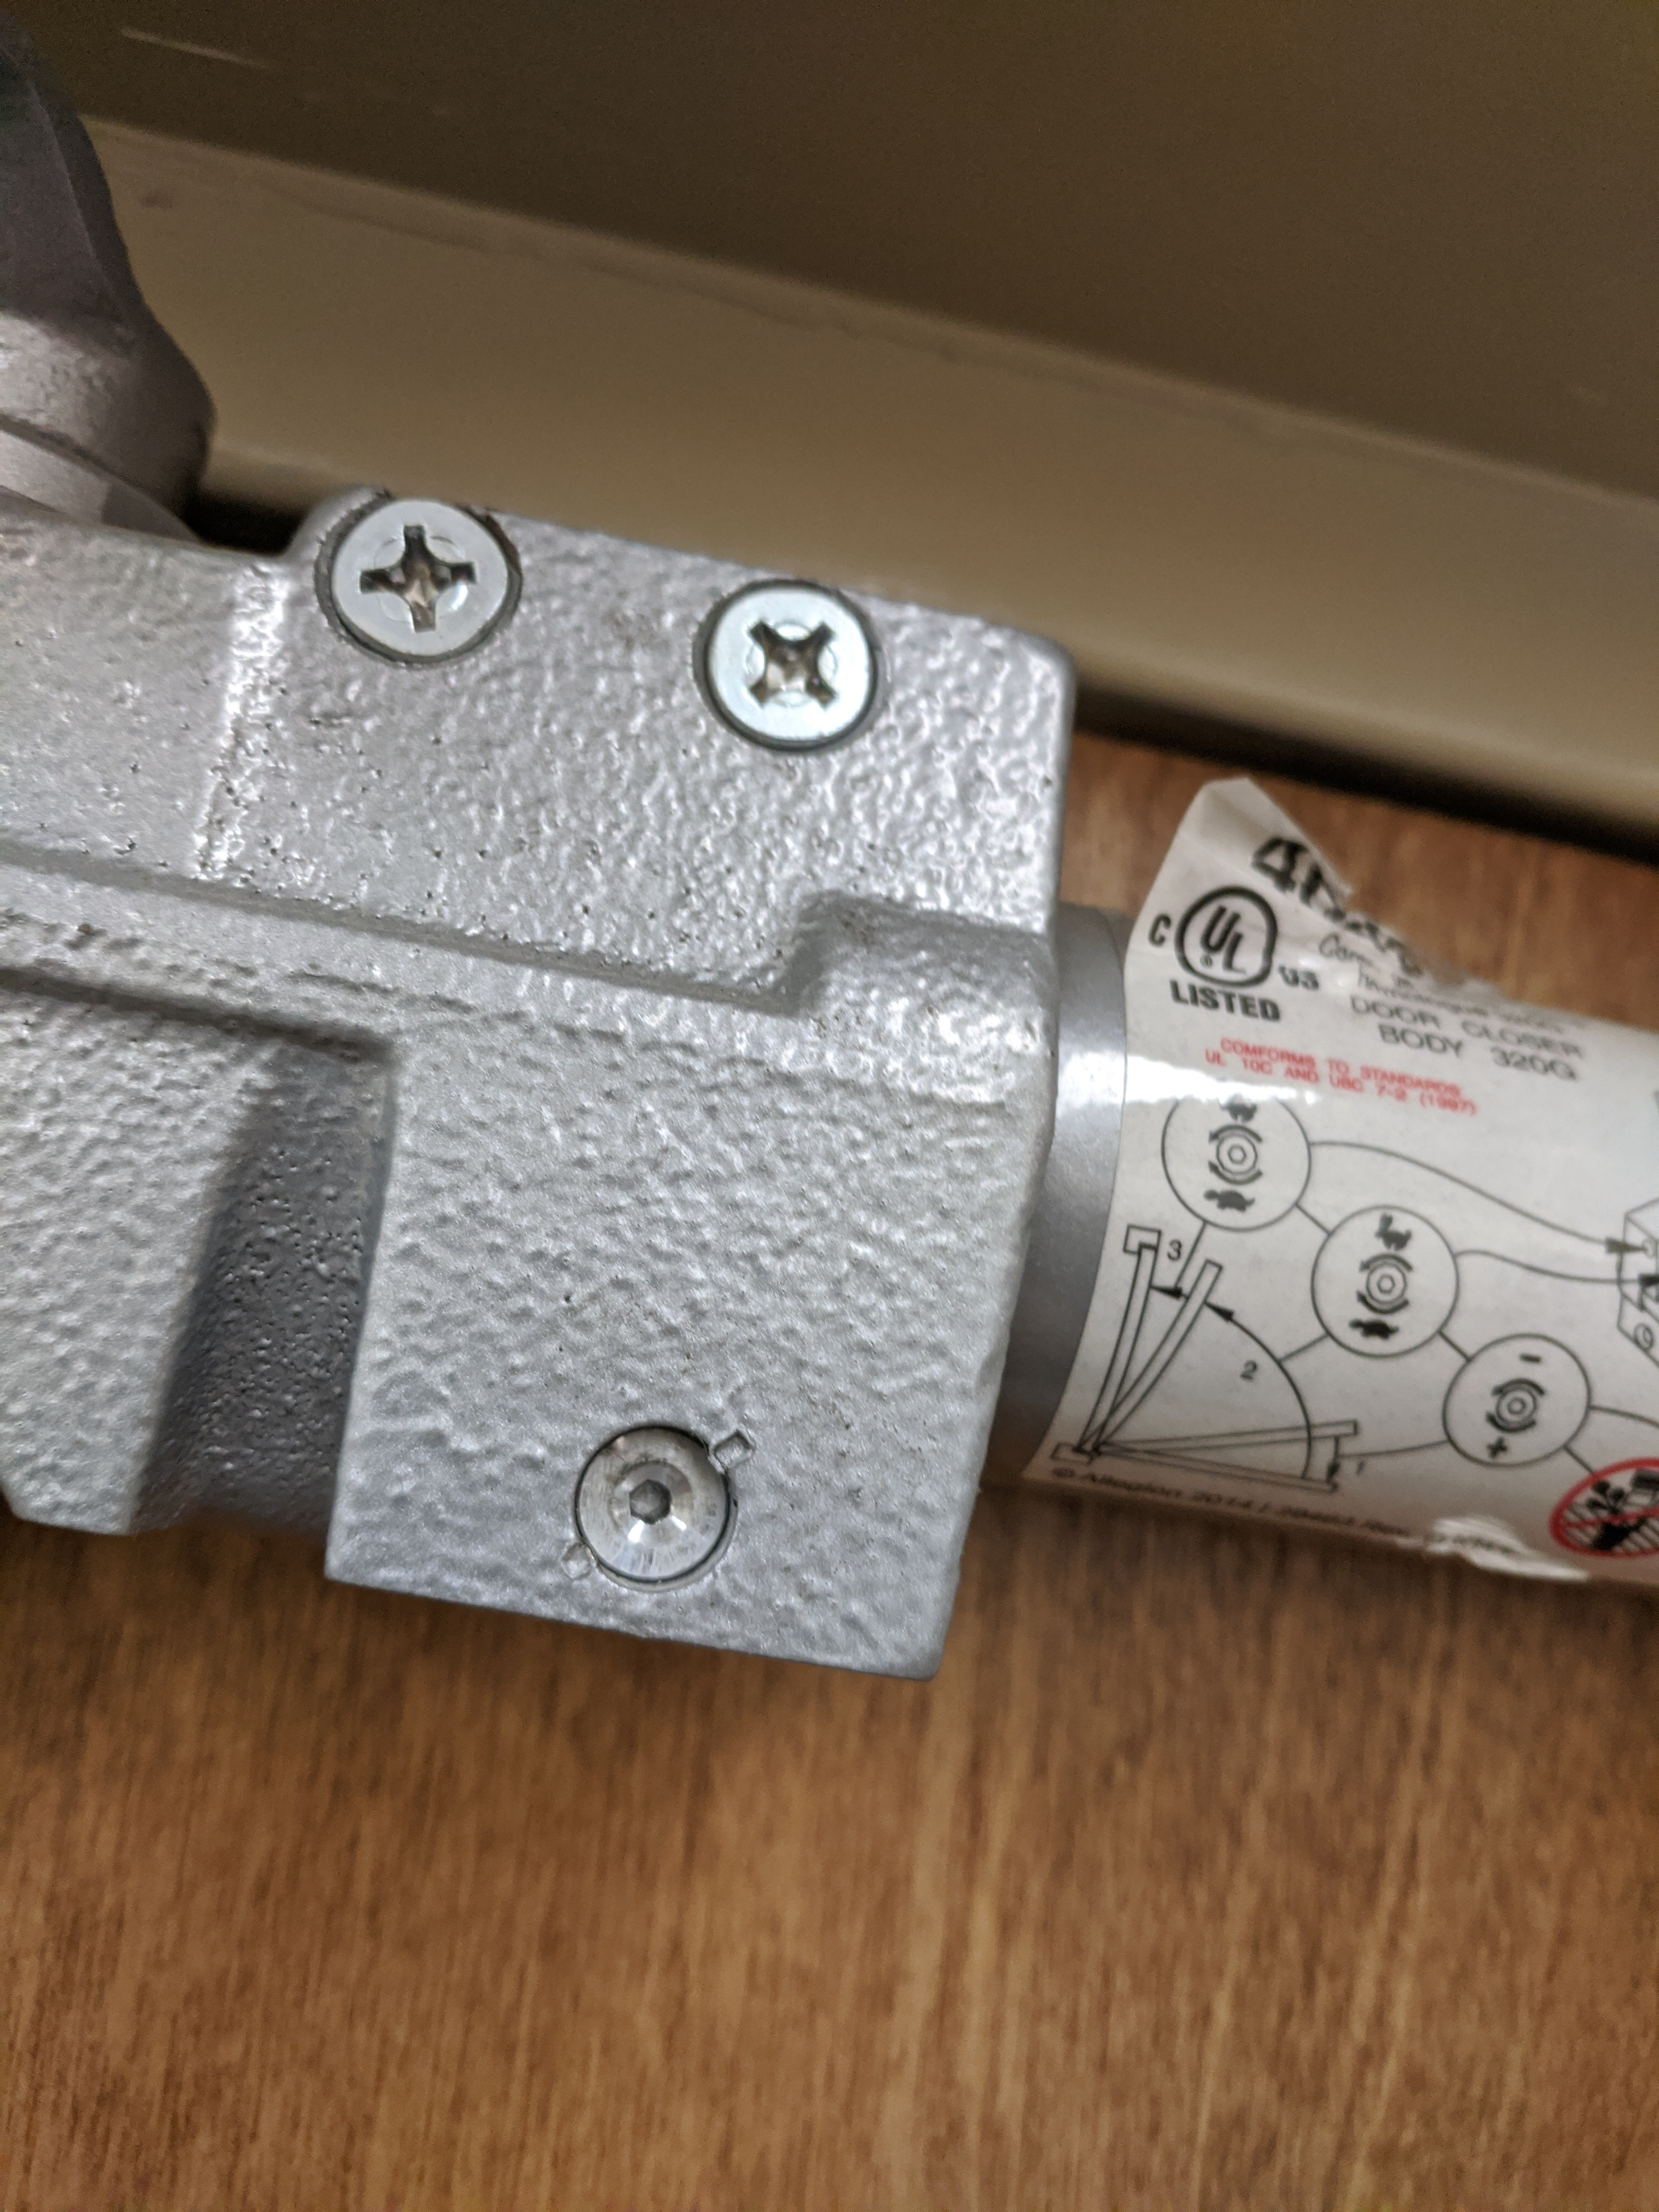cross_recessed_screw: (674, 536, 889, 766), (303, 465, 525, 664)
